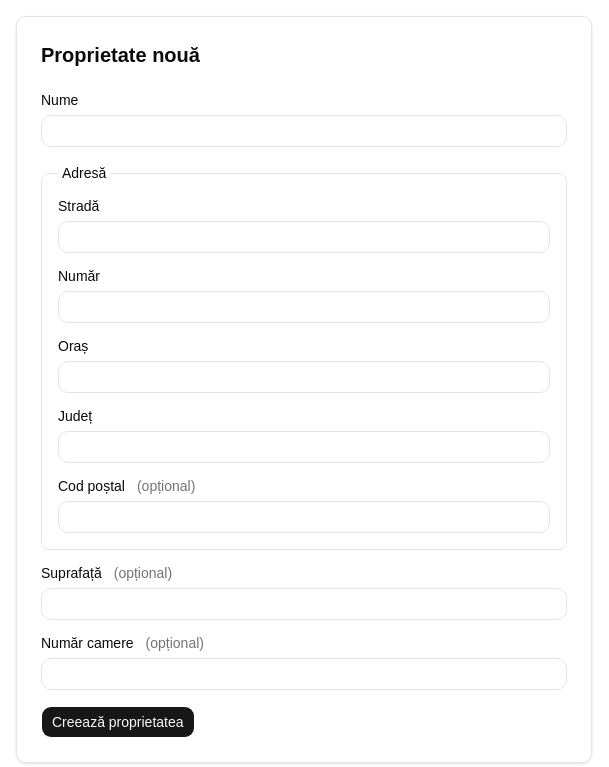
Test: CreatePropertyPage › keeps the user on the form and reports the failure when the write fails
This screenshot has width=609, height=767.
In the field labelled "Nume": x=304, y=131 [41,115,567,147], type "Apartament Unirii"
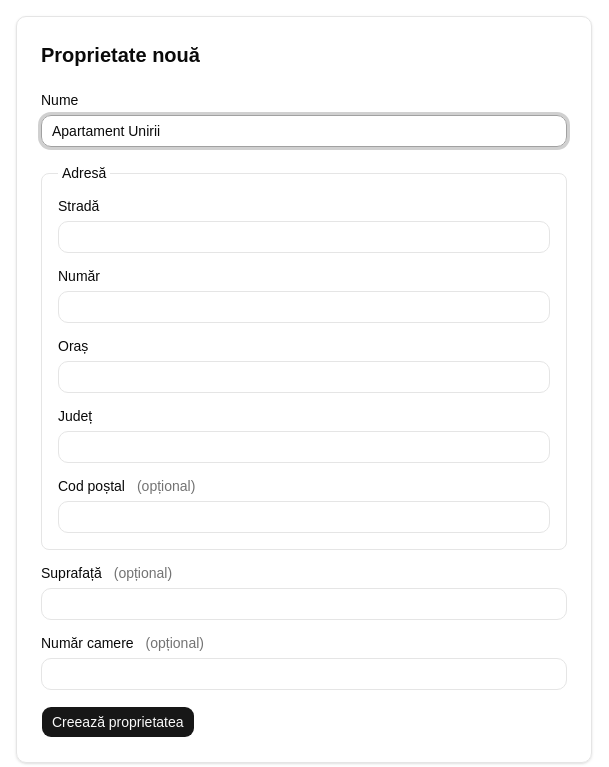
In the field labelled "Stradă": x=304, y=237 [58,221,550,253], type "Bd. Unirii"
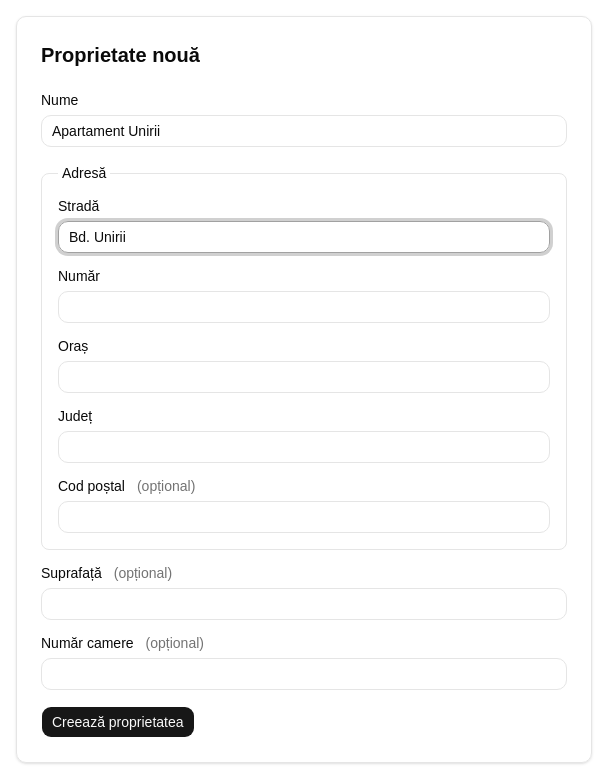
In the field labelled "Număr": x=304, y=307 [58,291,550,323], type "12"
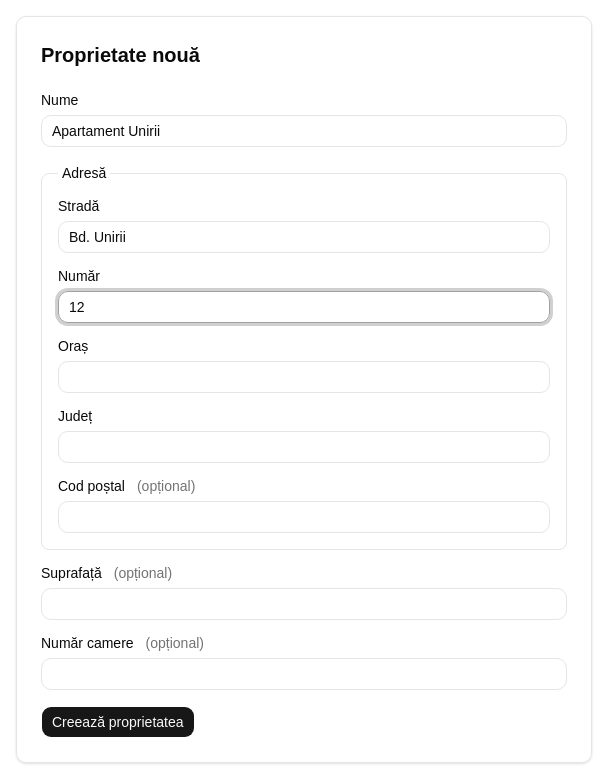
In the field labelled "Oraș": x=304, y=377 [58,361,550,393], type "București"
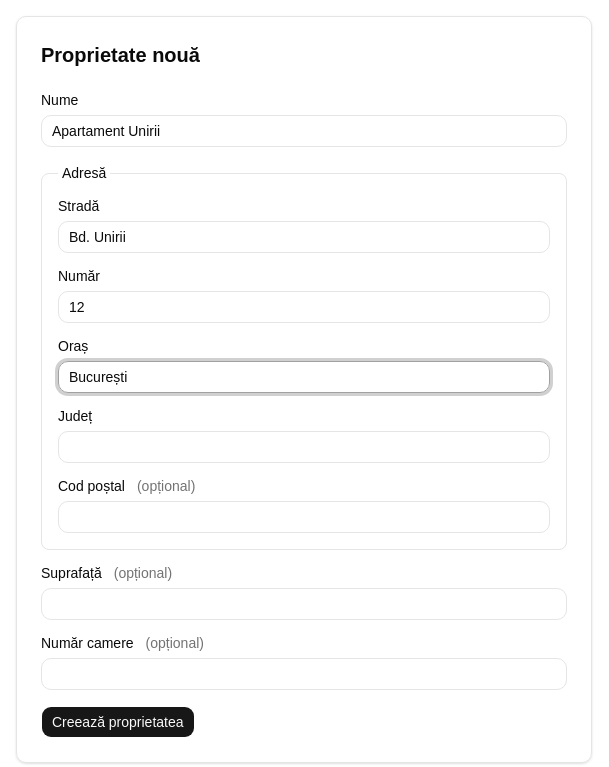
In the field labelled "Județ": x=304, y=447 [58,431,550,463], type "Ilfov"
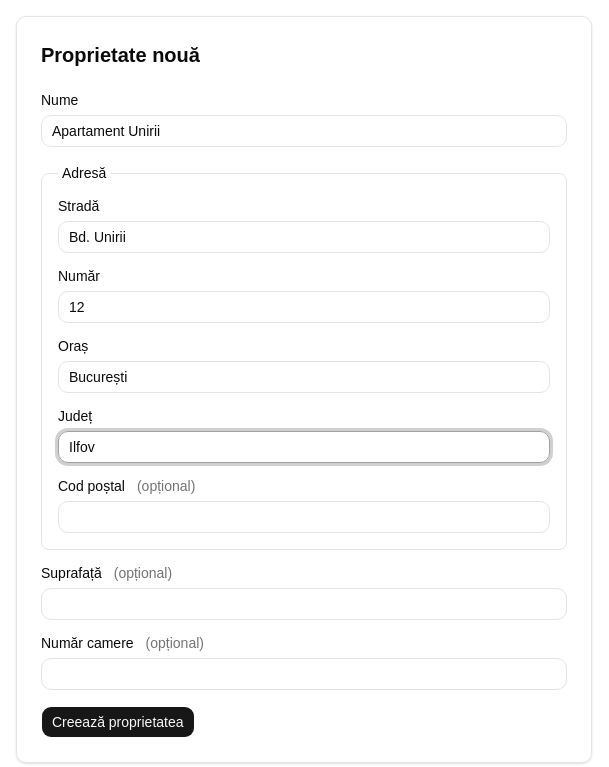
Click the button "Creează proprietatea": x=118, y=722 [41,706,194,738]
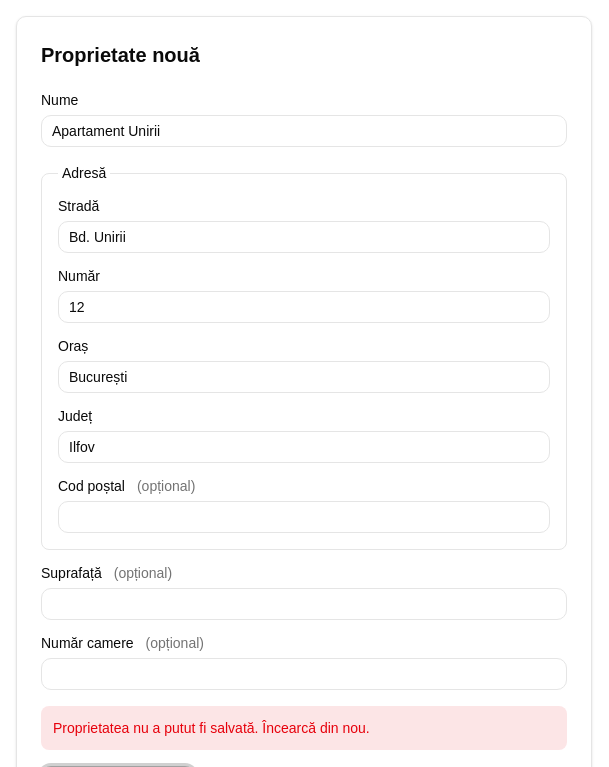
Now the message reads "Proprietatea nu a putut fi salvată. Încearcă din nou.", box [53,720,370,736]
